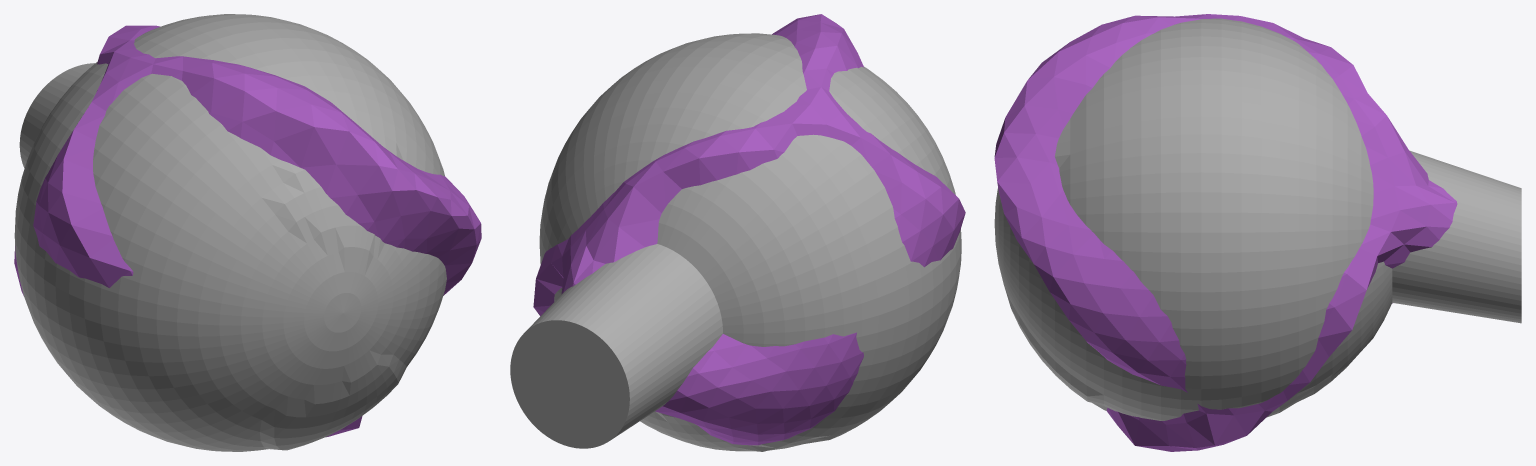
File: G10_A3_ALIGNED_GT.glb
3 views of the same model, side by side, from view 1: azimuth 30°, elevation 25°; view 2: azimuth 150°, elevation 25°; view 3: azimuth 270°, elevation 25° (orthographic). The views are drawn at different scales.
Parts seen in each view (by area): view 1: Independent_GT, A3; view 2: Independent_GT, A3; view 3: Independent_GT, A3.
Boxes of the visible parts, bbox=[...] form: Independent_GT: bbox=[14, 14, 446, 451]; A3: bbox=[14, 25, 481, 437]; Independent_GT: bbox=[510, 33, 961, 451]; A3: bbox=[533, 14, 965, 445]; Independent_GT: bbox=[994, 18, 1521, 420]; A3: bbox=[994, 14, 1457, 451].
Size of the model in its own units: 0.00625 by 0.00622 by 0.0079.
